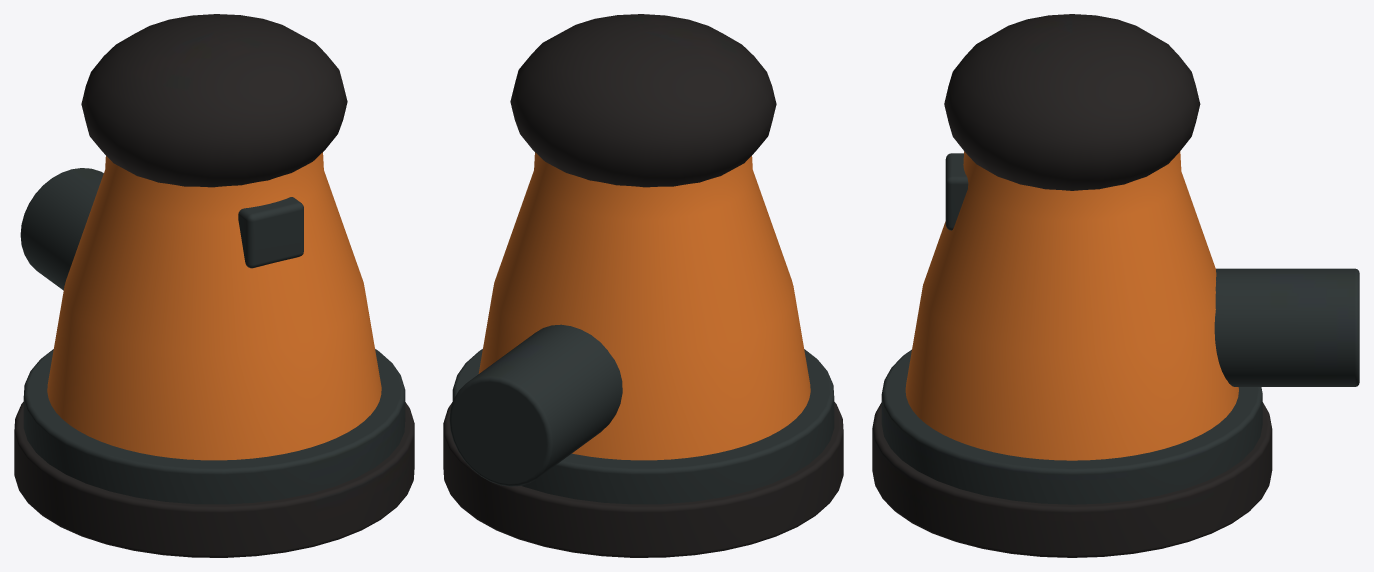
Rendered from sander.glb.
3 views of the same model, side by side, from view 1: azimuth 30°, elevation 25°; view 2: azimuth 150°, elevation 25°; view 3: azimuth 270°, elevation 25° (orthographic).
Parts seen in each view (by area): view 1: Sander motor housing, Palm-grip cushion, Dust collection outlet; view 2: Sander motor housing, Palm-grip cushion, Dust collection outlet; view 3: Sander motor housing, Palm-grip cushion, Dust collection outlet.
Boxes of the visible parts, bbox=[...] form: Sander motor housing: bbox=[47, 152, 381, 460]; Palm-grip cushion: bbox=[14, 14, 414, 557]; Dust collection outlet: bbox=[20, 168, 405, 504]; Sander motor housing: bbox=[478, 152, 810, 460]; Palm-grip cushion: bbox=[443, 14, 843, 557]; Dust collection outlet: bbox=[449, 324, 834, 504]; Sander motor housing: bbox=[905, 151, 1238, 460]; Palm-grip cushion: bbox=[872, 14, 1272, 557]; Dust collection outlet: bbox=[881, 153, 1359, 504].
Bounding box in the file's own units: 0.128 × 0.156 × 0.156.
3 materials, 3 textured.
